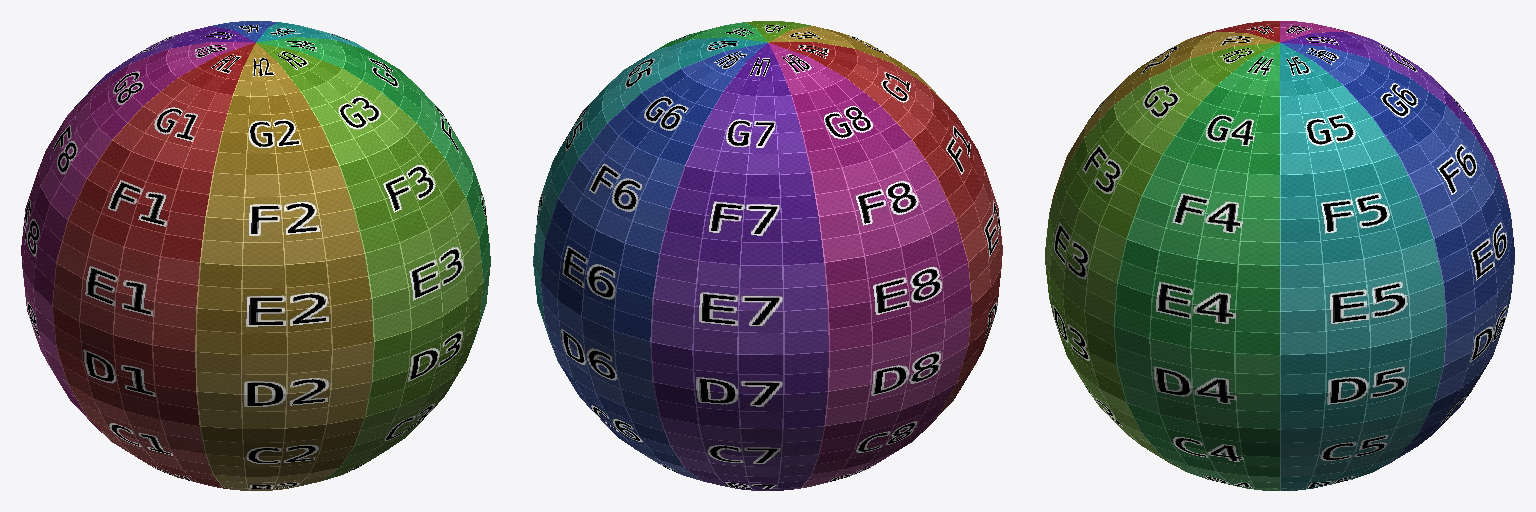
3 renders of one model, left to right at view 1: azimuth 30°, elevation 25°; view 2: azimuth 150°, elevation 25°; view 3: azimuth 270°, elevation 25°, orthographic.
Visible parts, largest first — view 1: Sphere; view 2: Sphere; view 3: Sphere.
Part boxes in pixels (left/top/right/bottom): Sphere: left=21, top=21, right=490, bottom=490; Sphere: left=533, top=21, right=1002, bottom=490; Sphere: left=1045, top=21, right=1514, bottom=490.
Size of the model in its own units: 2 by 2 by 2.
1 materials, 1 textured.